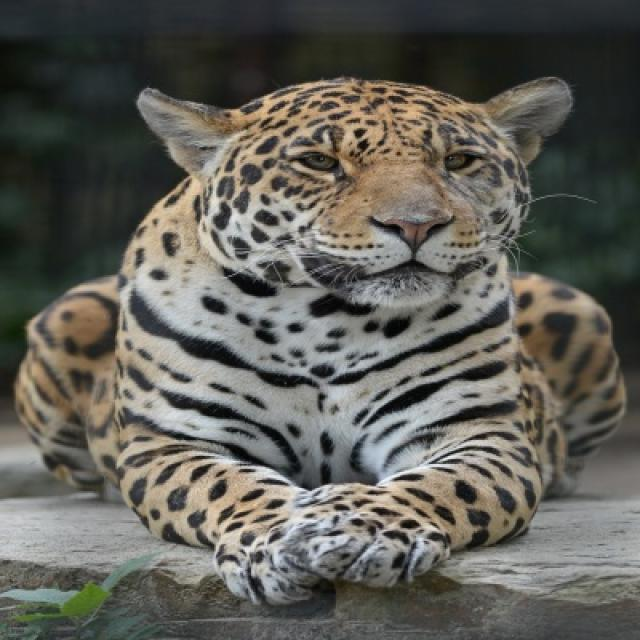Jaguar: (14, 77, 621, 610)
